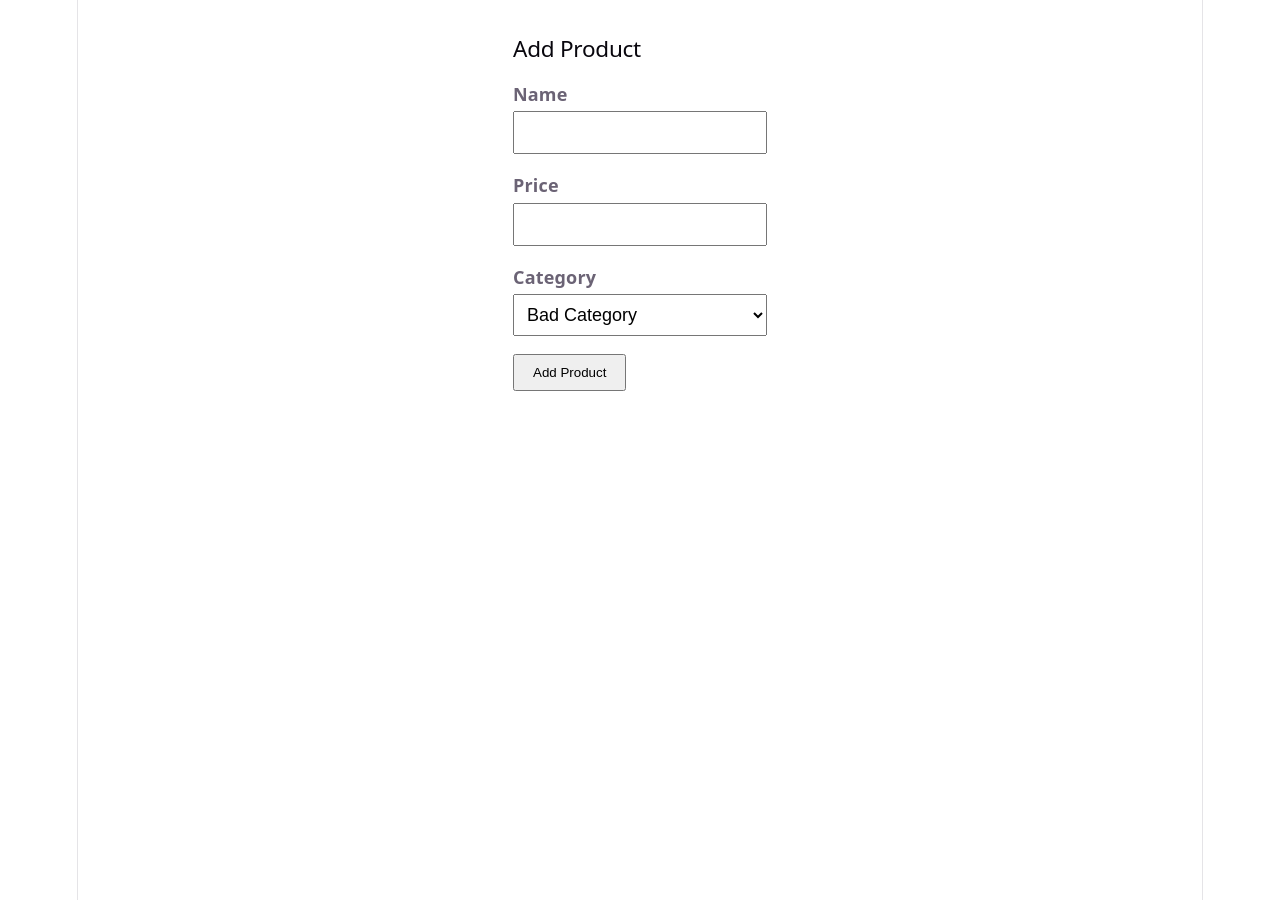
it: ProductForm (create mode) › shows a form-level error and does not submit when the selected category has a malformed id
Expected: the dropdown labelled "Category" is enabled, [513,294,767,336]
Type "Valid Name" into the field labelled "Name".
click(640, 133); type("Valid Name")  # box [513,111,767,154]
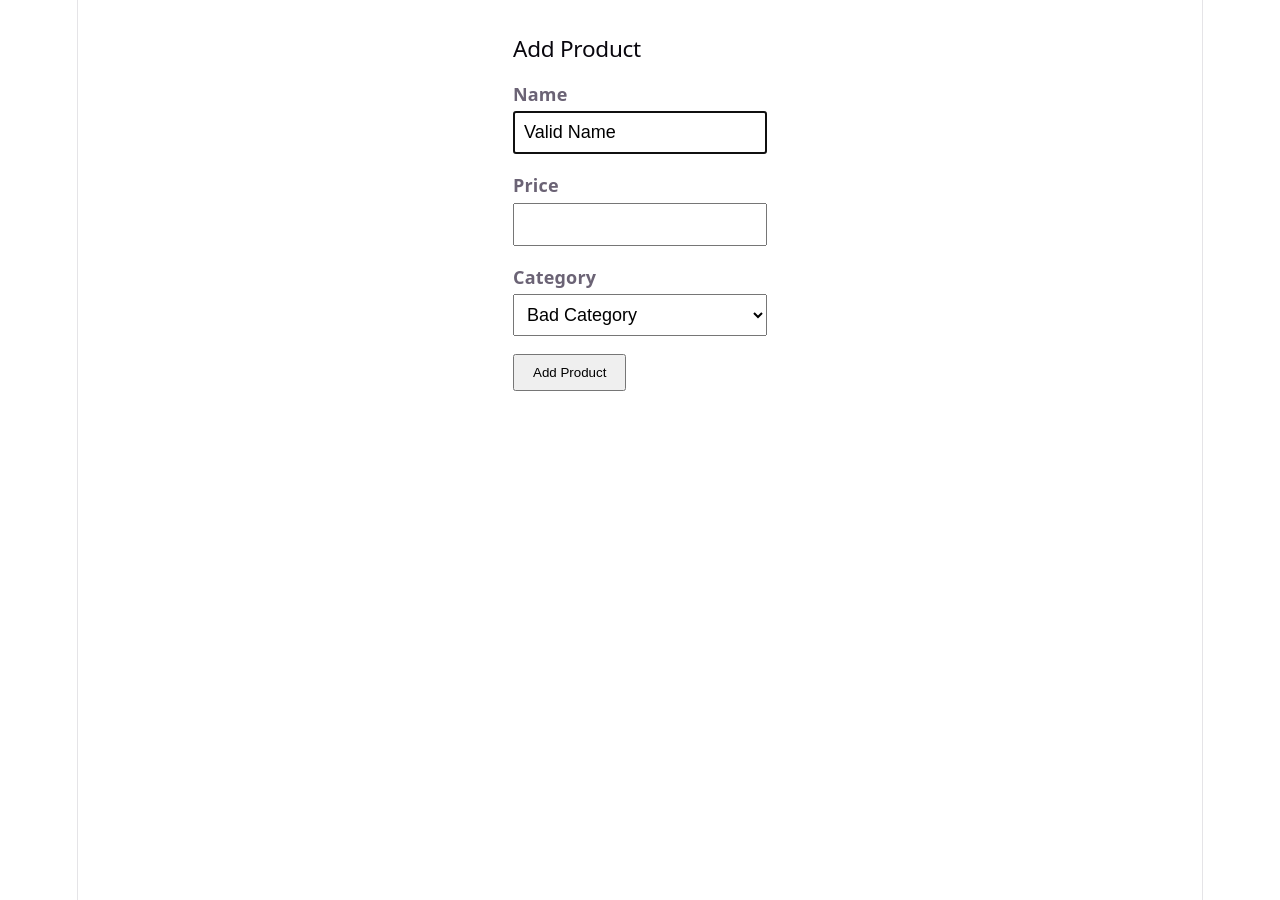
Type "9.99" into the number field labelled "Price".
click(640, 224); type("9.99")  # box [513,203,767,246]
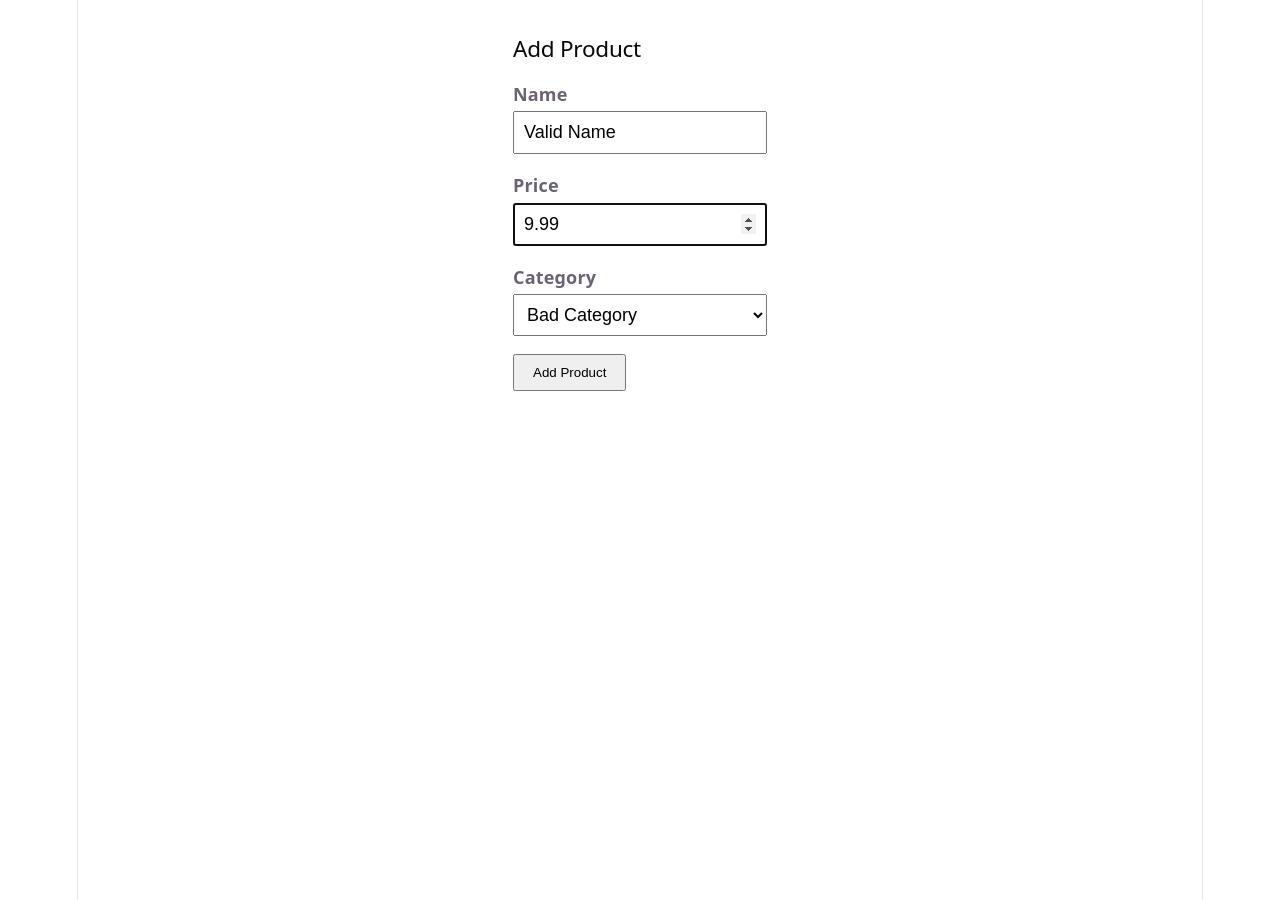
Click the button "Add Product".
click(570, 373)  # box [513,354,626,391]
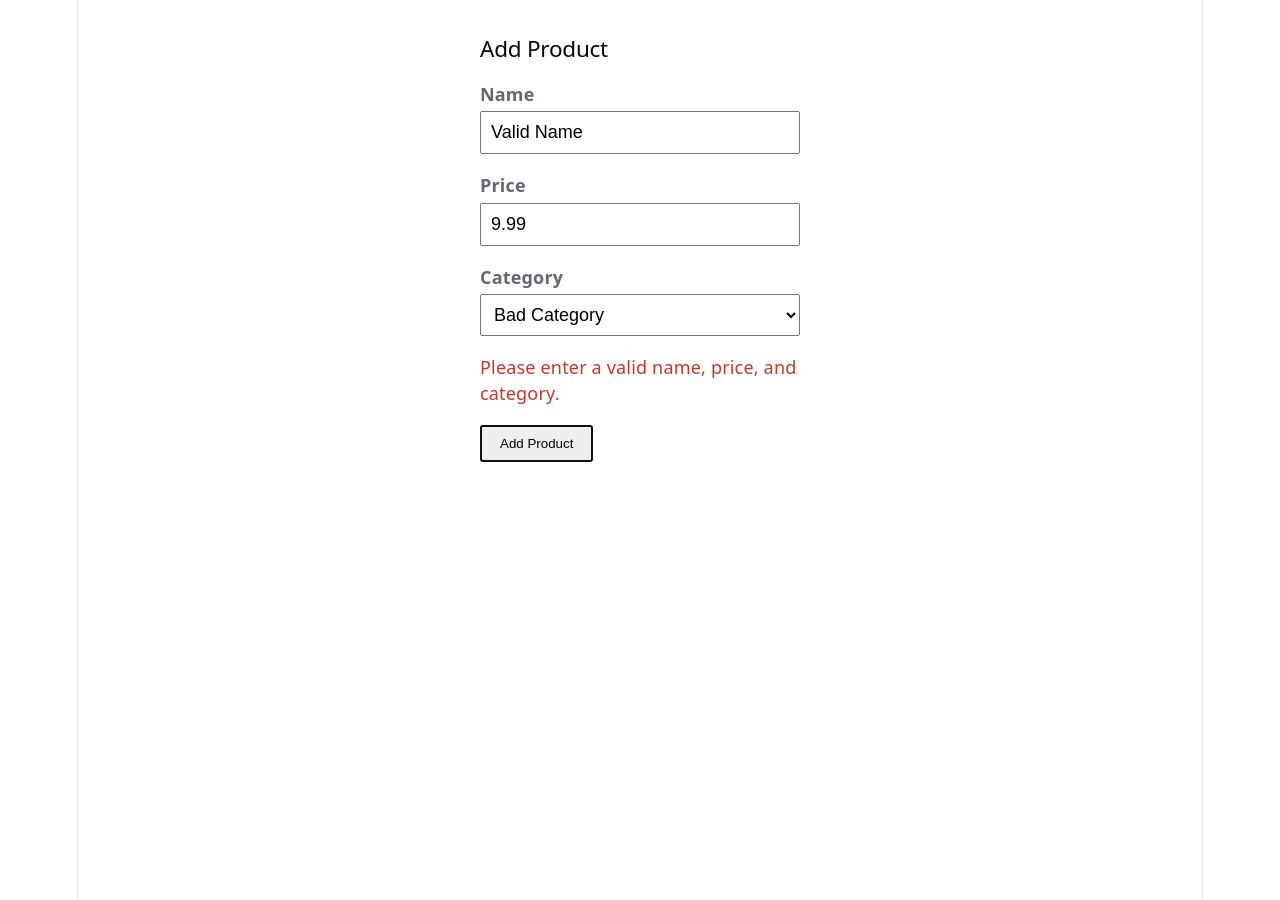
Expected: the message "Please enter a valid name, price, and category." is shown, [480,354,800,406]
